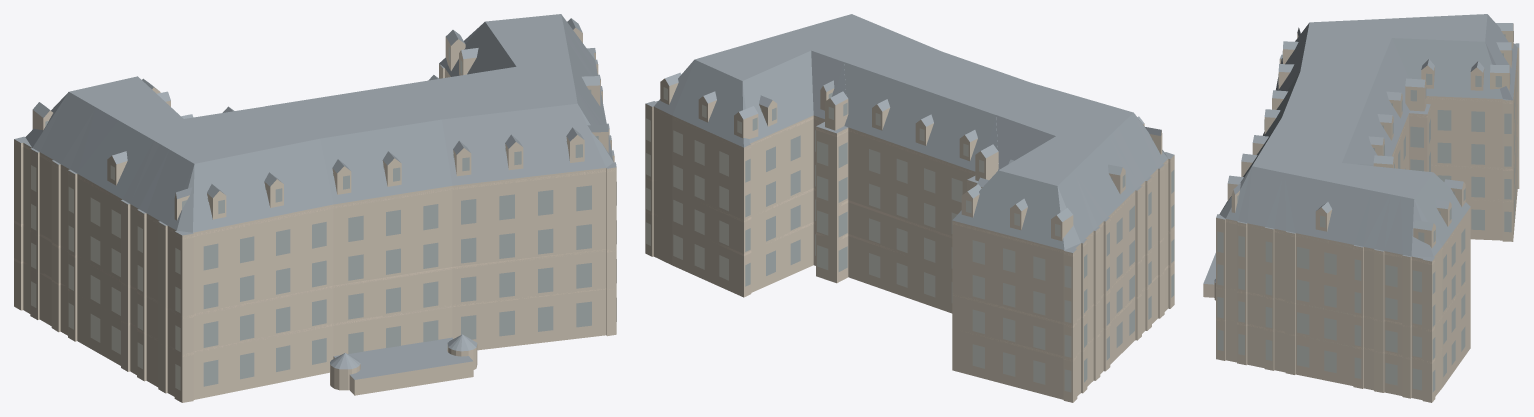
File: detail.glb
The picture shows the model from 3 angles, left to right: view 1: azimuth 30°, elevation 25°; view 2: azimuth 150°, elevation 25°; view 3: azimuth 270°, elevation 25°; orthographic projection. The views are drawn at different scales.
Parts seen in each view (by area): view 1: stone, roof, window, trim; view 2: stone, roof, window, trim; view 3: stone, roof, window, trim.
Boxes of the visible parts, x1,y1,x2,y2 form: stone: (14,27,616,402); roof: (14,14,616,379); window: (31,46,616,390); trim: (14,55,614,356); stone: (645,78,1174,402); roof: (646,14,1174,252); window: (646,87,1174,392); trim: (645,106,1174,361); stone: (1203,24,1519,402); roof: (1203,14,1519,284); window: (1217,31,1517,392); trim: (1216,56,1518,363).
Bounding box in the file's own units: 52.93 × 21 × 32.44.
